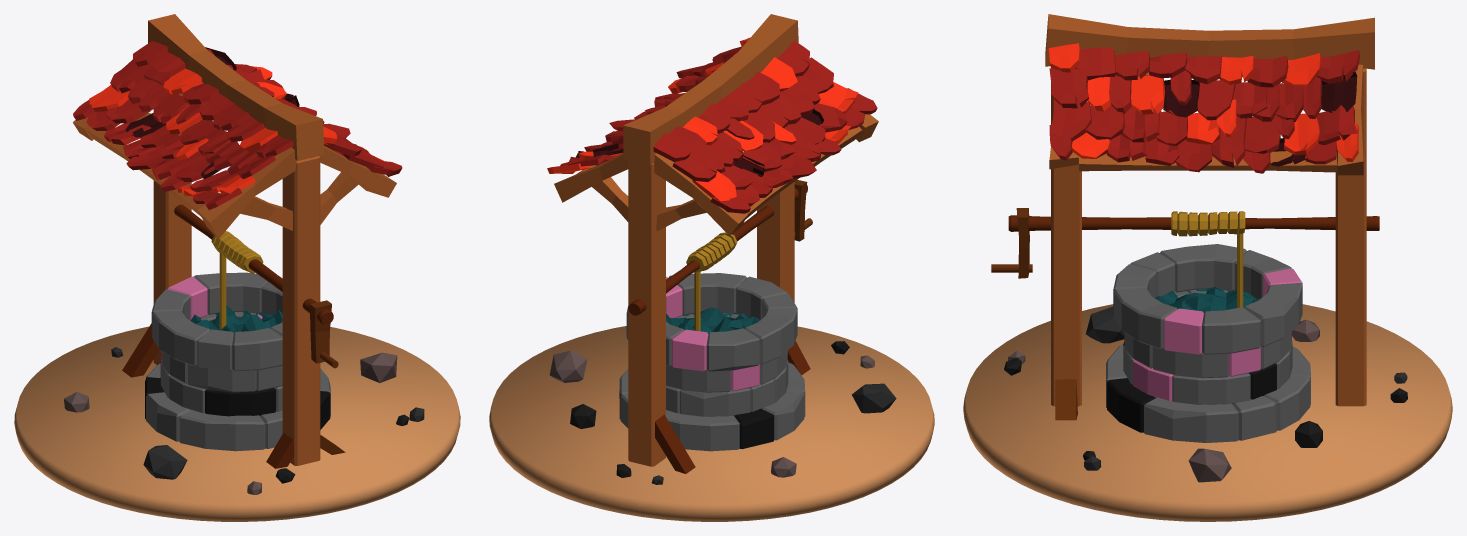
File: good-well.obj
3 views of the same model, side by side, from view 1: azimuth 30°, elevation 25°; view 2: azimuth 150°, elevation 25°; view 3: azimuth 270°, elevation 25° (orthographic). The views are drawn at different scales.
Visible parts, largest first — view 1: Cylinder.003_Cylinder.005, Plane.013_Plane.030, Cube.004, Cube.003, Cube.009, Cube, Cube.005, Cube.001, Plane.001, Cube.002, Cube.011, Cube.013 (+12 smaller); view 2: Cylinder.003_Cylinder.005, Plane.013_Plane.030, Cube.005, Cube.003, Cube.009, Cube, Cube.004, Cube.001, Plane.001, Cube.002, Cube.010, Cube.012 (+11 smaller); view 3: Cylinder.003_Cylinder.005, Plane.001, Cube.003, Cube.009, Cube, Cube.005, Cube.004, Cube.001, Cube.002, Cylinder, Cube.015, Cylinder.001_Cylinder.002 (+7 smaller).
Boxes of the visible parts, box(x1,y1,x2,y2) form: Cylinder.003_Cylinder.005: box(14, 326, 460, 521); Plane.013_Plane.030: box(73, 41, 293, 209); Cube.004: box(282, 156, 320, 465); Cube.003: box(151, 272, 282, 371); Cube.009: box(148, 14, 324, 160); Cube: box(145, 363, 330, 451); Cube.005: box(153, 93, 191, 365); Cube.001: box(160, 360, 282, 416); Plane.001: box(205, 47, 402, 176); Cube.002: box(161, 312, 282, 392); Cube.011: box(197, 147, 296, 238); Cube.013: box(310, 145, 396, 197); Cylinder.003_Cylinder.005: box(489, 326, 934, 521); Plane.013_Plane.030: box(653, 40, 877, 213); Cube.005: box(628, 160, 665, 466); Cube.003: box(626, 273, 797, 371); Cube.009: box(623, 14, 798, 165); Cube: box(619, 362, 805, 451); Cube.004: box(757, 182, 794, 302); Cube.001: box(666, 359, 788, 416); Plane.001: box(547, 37, 750, 173); Cube.002: box(666, 313, 787, 392); Cube.010: box(653, 153, 747, 235); Cube.012: box(554, 153, 628, 202); Cylinder.003_Cylinder.005: box(963, 304, 1452, 521); Plane.001: box(1048, 43, 1359, 173); Cube.003: box(1113, 244, 1302, 354); Cube.009: box(1045, 14, 1374, 69); Cube: box(1106, 344, 1310, 442); Cube.005: box(1335, 68, 1366, 406); Cube.004: box(1051, 68, 1081, 406); Cube.001: box(1123, 341, 1292, 404); Cube.002: box(1124, 289, 1291, 378); Cylinder: box(1008, 215, 1379, 231); Cube.015: box(1078, 151, 1336, 172); Cylinder.001_Cylinder.002: box(1171, 211, 1245, 236).
Size of the model in its own units: 26.54 by 23.55 by 26.31.
